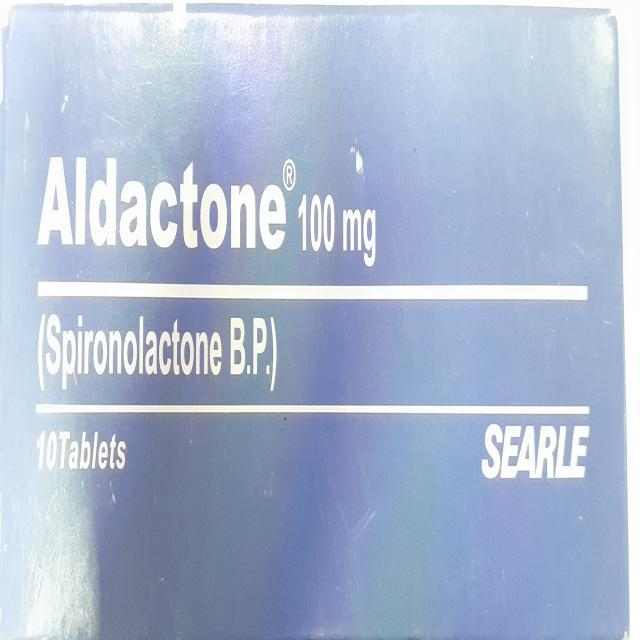drug-name: (39, 148, 294, 254)
